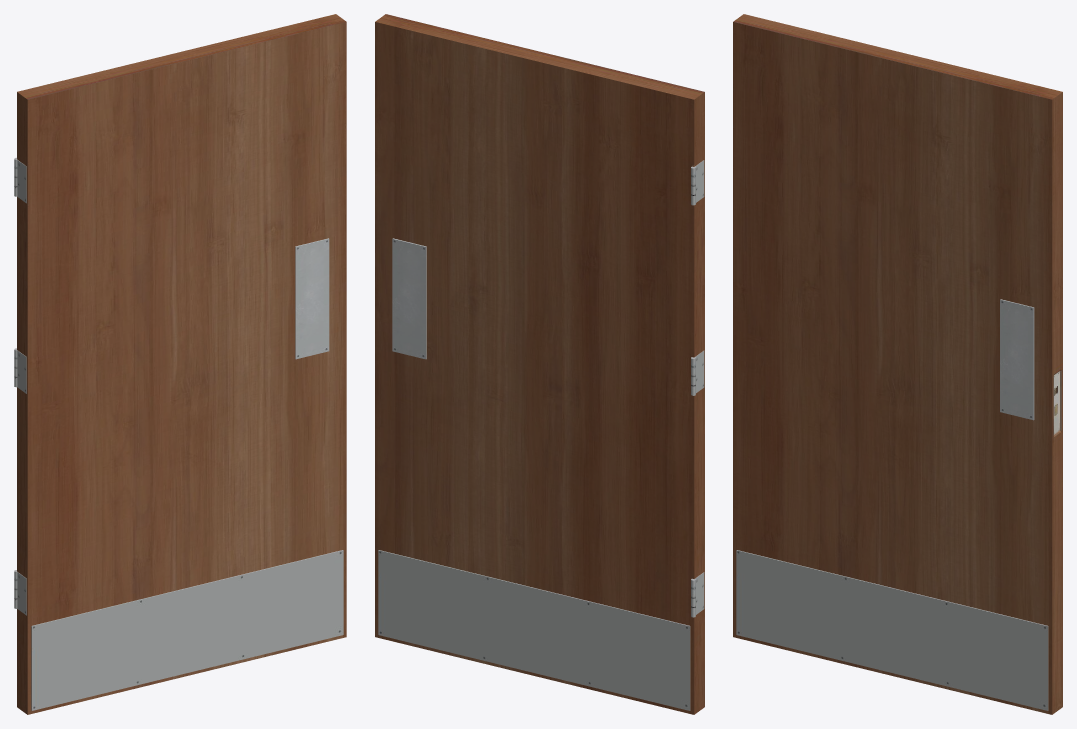
Rendered from SM_Door_02.glb.
3 views of the same model, side by side, from view 1: azimuth 30°, elevation 25°; view 2: azimuth 150°, elevation 25°; view 3: azimuth 330°, elevation 25° (orthographic).
Parts seen in each view (by area): view 1: SM_Door_02; view 2: SM_Door_02; view 3: SM_Door_02.
Boxes of the visible parts, left/top/right/bottom form: SM_Door_02: left=14, top=14, right=346, bottom=714; SM_Door_02: left=375, top=14, right=704, bottom=714; SM_Door_02: left=733, top=14, right=1062, bottom=714.
Size of the model in its own units: 1.31 by 2.39 by 0.0917.
Materials: 1 (1 with a texture image).
